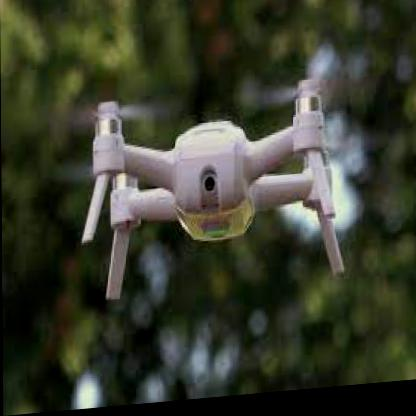UAS: (80, 85, 345, 301)
